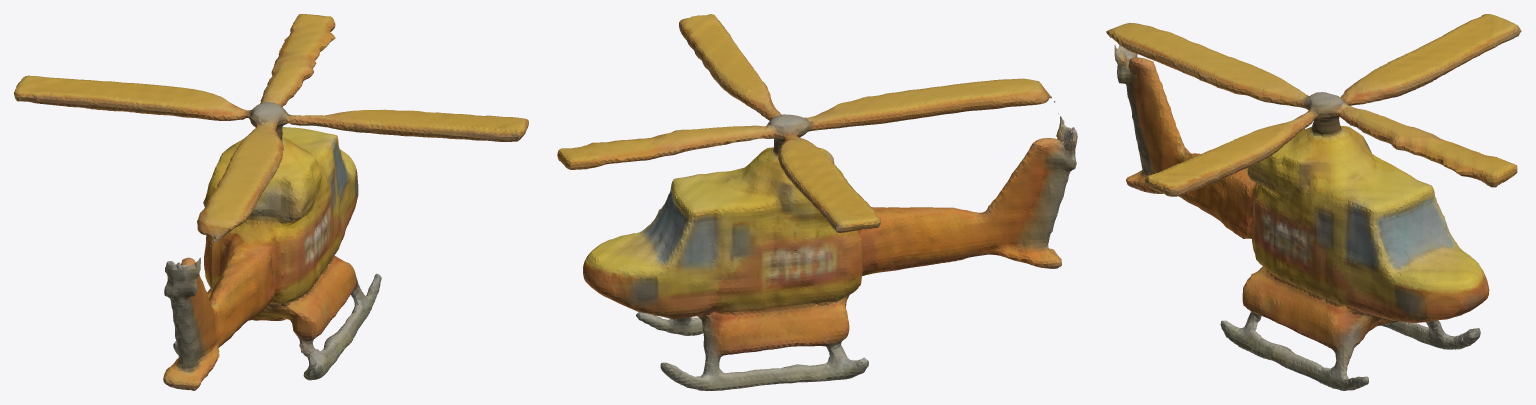
The model's file is helicopter.glb.
The picture shows the model from 3 angles, left to right: view 1: azimuth 30°, elevation 25°; view 2: azimuth 150°, elevation 25°; view 3: azimuth 270°, elevation 25°; orthographic projection. The views are drawn at different scales.
Visible parts, largest first — view 1: world; view 2: world; view 3: world.
Part boxes in pixels (box(x1,y1,x2,y2)): world: box(14, 14, 528, 390); world: box(557, 14, 1077, 390); world: box(1106, 14, 1521, 390).
Bounding box in the file's own units: 1.71 × 1.04 × 1.59.
